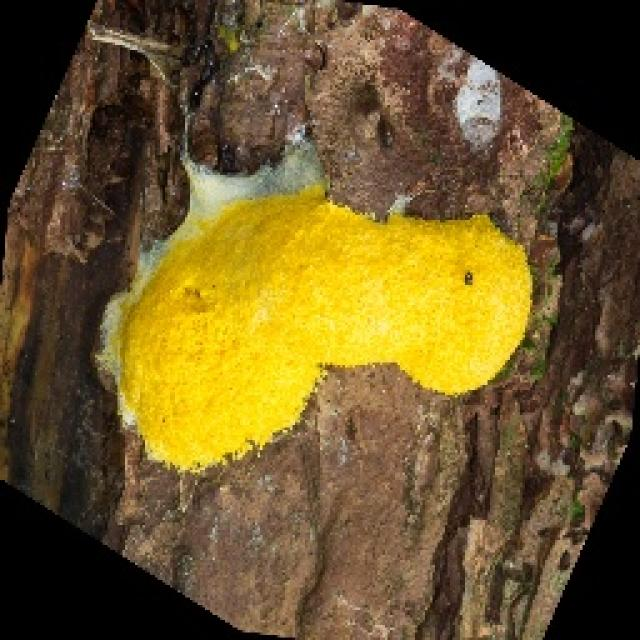Dog_vomit_slime_mold: (78, 119, 526, 452)
